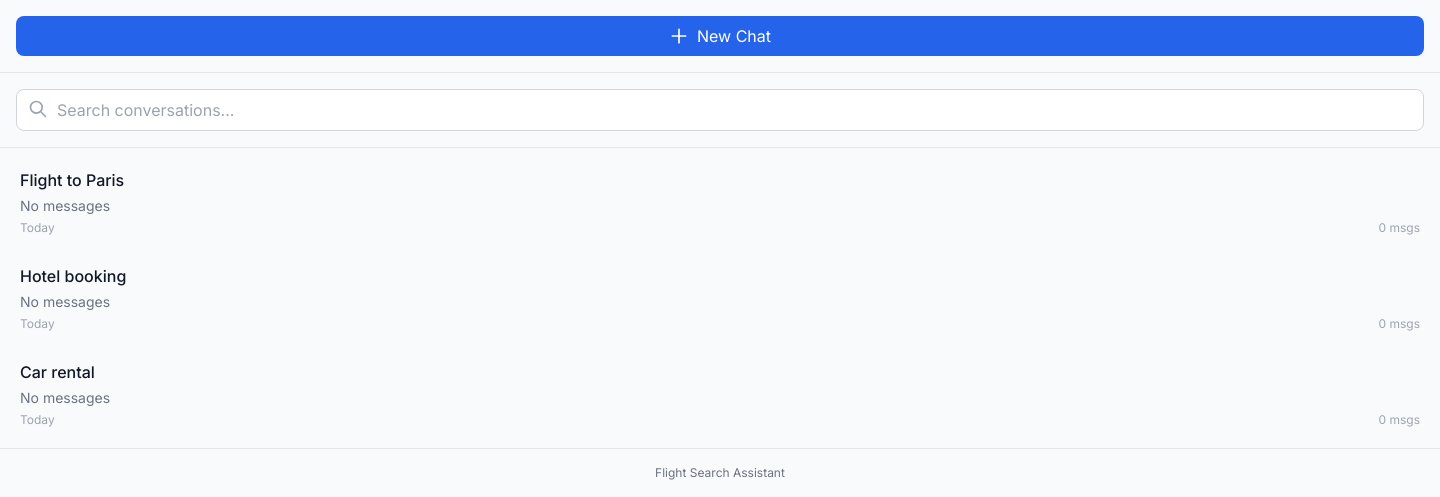
Scenario: ChatSidebar › filters sessions based on search term
This screenshot has width=1440, height=497.
Type "flight" into the field with placeholder "Search conversations..." at (720, 110), box [16, 89, 1424, 131]
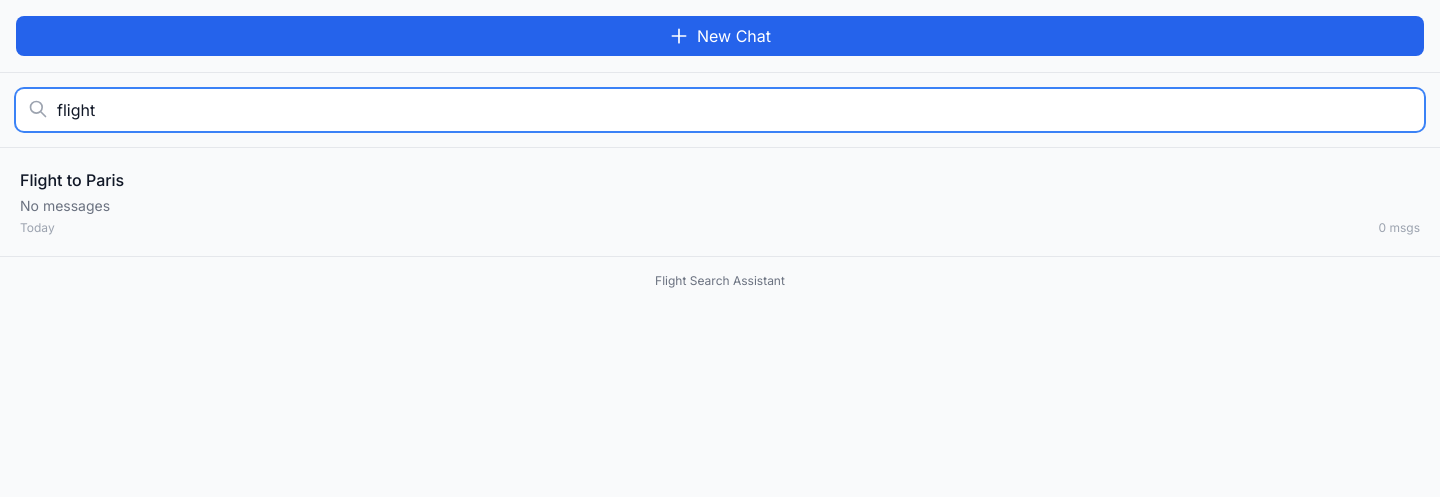
Expected: the text "Flight to Paris" is shown, [20, 170, 124, 190]
Expected: the button "Hotel booking" is gone
Expected: the button "Car rental" is gone
